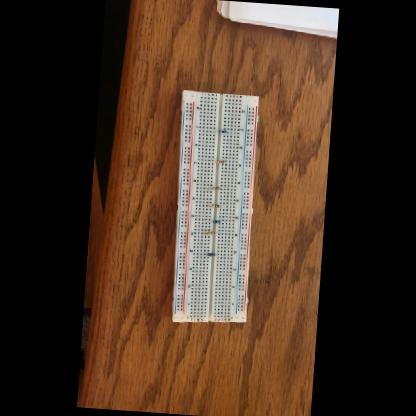breadboard: (166, 90, 262, 328)
resistor: (206, 231, 216, 236), (212, 186, 221, 191), (212, 204, 221, 209), (212, 220, 222, 224), (218, 130, 227, 134), (216, 160, 225, 164), (208, 252, 216, 256)
wire: (228, 132, 235, 134), (206, 220, 212, 222), (221, 188, 226, 190), (216, 232, 220, 234), (216, 254, 220, 256), (208, 188, 212, 190), (211, 131, 218, 132), (203, 254, 206, 256), (222, 222, 224, 224), (205, 233, 207, 235), (213, 161, 216, 162), (225, 162, 227, 162), (220, 206, 224, 206), (207, 206, 211, 206)
